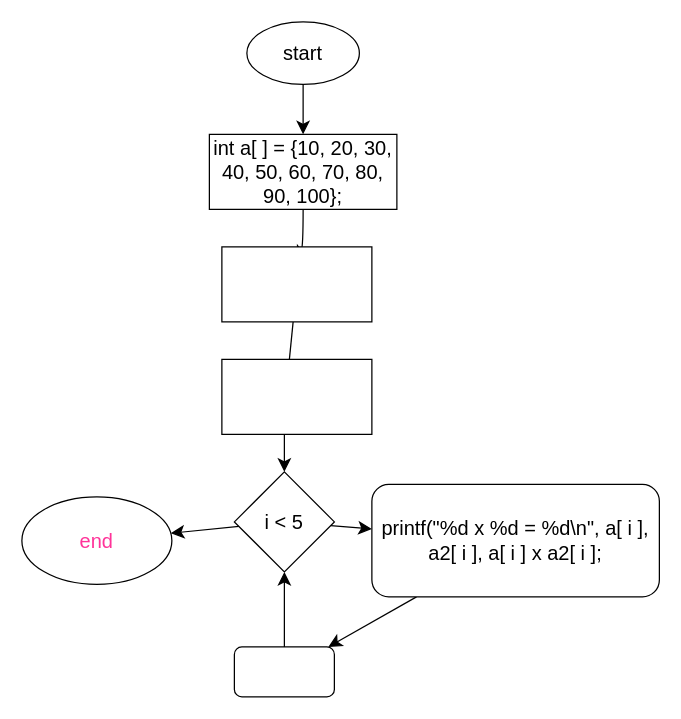
This 681x719 diagram has some shape labels left out. Each missing label, with the box of its shape:
i++: (233, 646, 334, 697)
int a2 [10]= {100, 90, 80, 70, 60, 50, 40, 30, 20, 10};: (221, 246, 372, 322)
int i = 0;: (221, 358, 372, 434)
